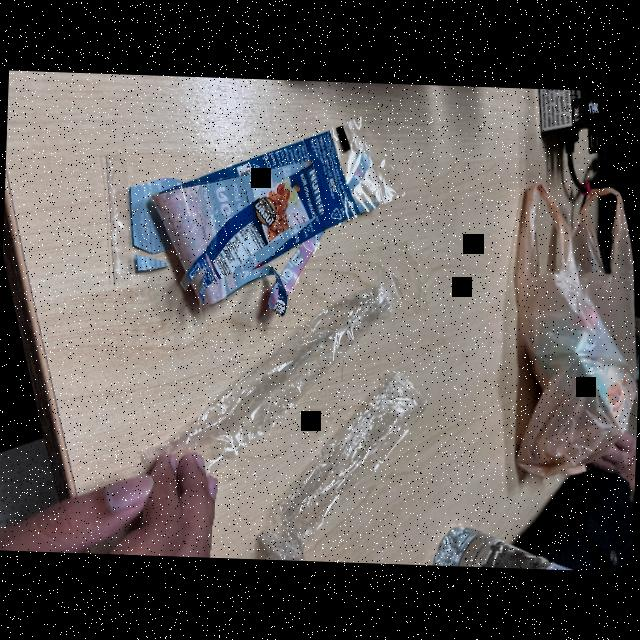scrap_plastic: (98, 94, 410, 321), (138, 281, 394, 493), (251, 356, 454, 564)
